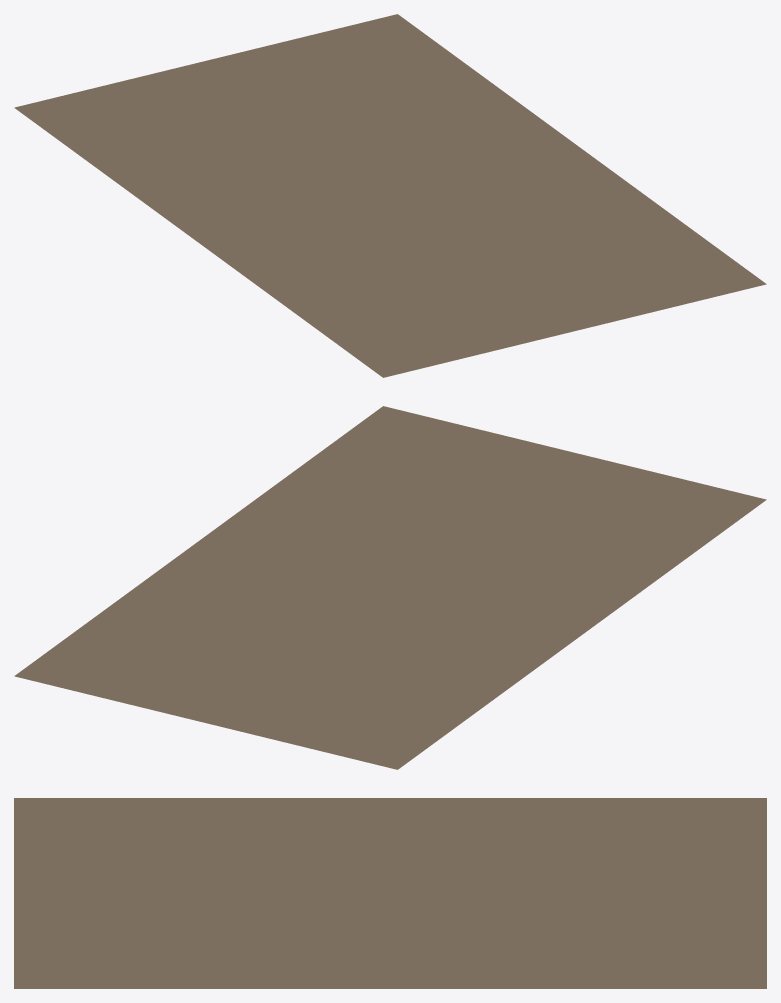
3 renders of one model, top to bottom at view 1: azimuth 30°, elevation 25°; view 2: azimuth 150°, elevation 25°; view 3: azimuth 270°, elevation 25°, orthographic.
Bounding box in the file's own units: 0.1875 × 0 × 0.3125.
Materials: 1 (1 with a texture image).
